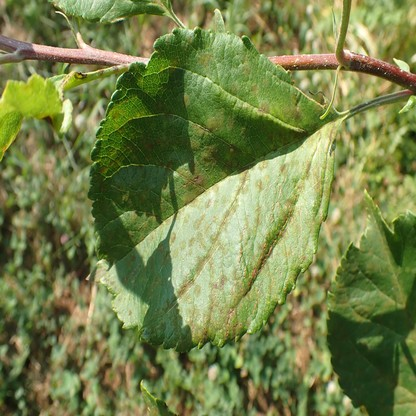scab: (85, 35, 339, 349), (333, 195, 416, 416), (138, 379, 159, 416)
